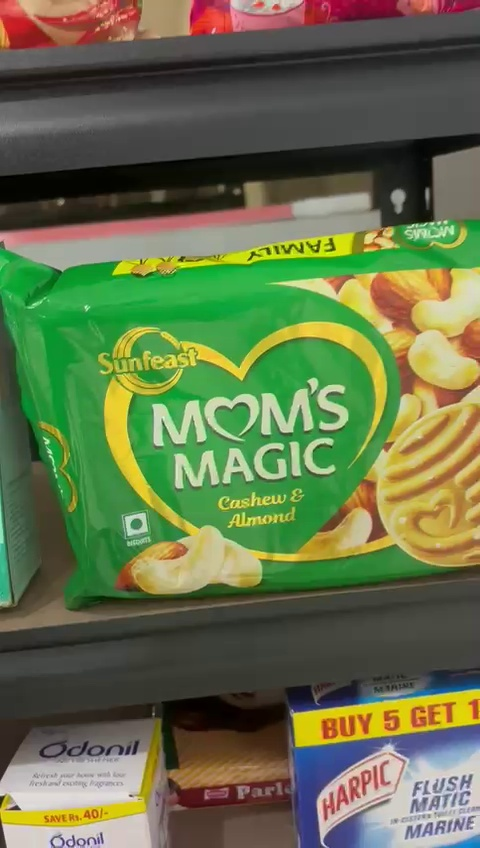Moms magic: (4, 241, 480, 610)
